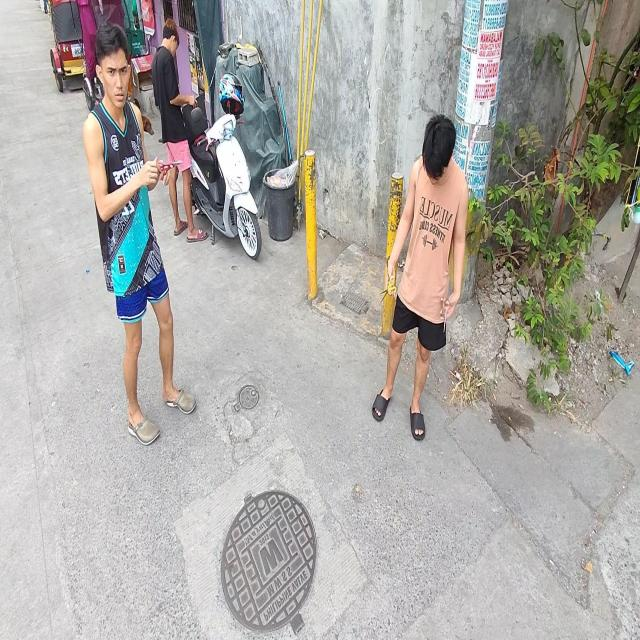scissor: (379, 275, 396, 303), (156, 161, 183, 175), (440, 298, 450, 332)
